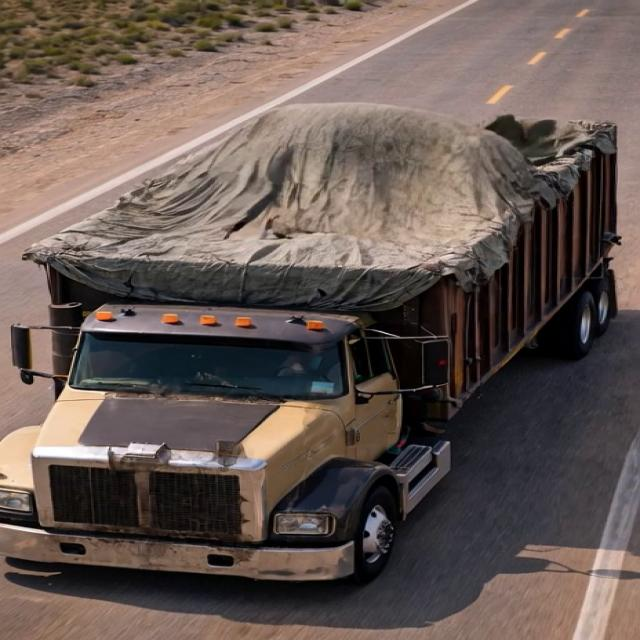Box: (27, 105, 627, 283)
Truck: (2, 71, 638, 590)
